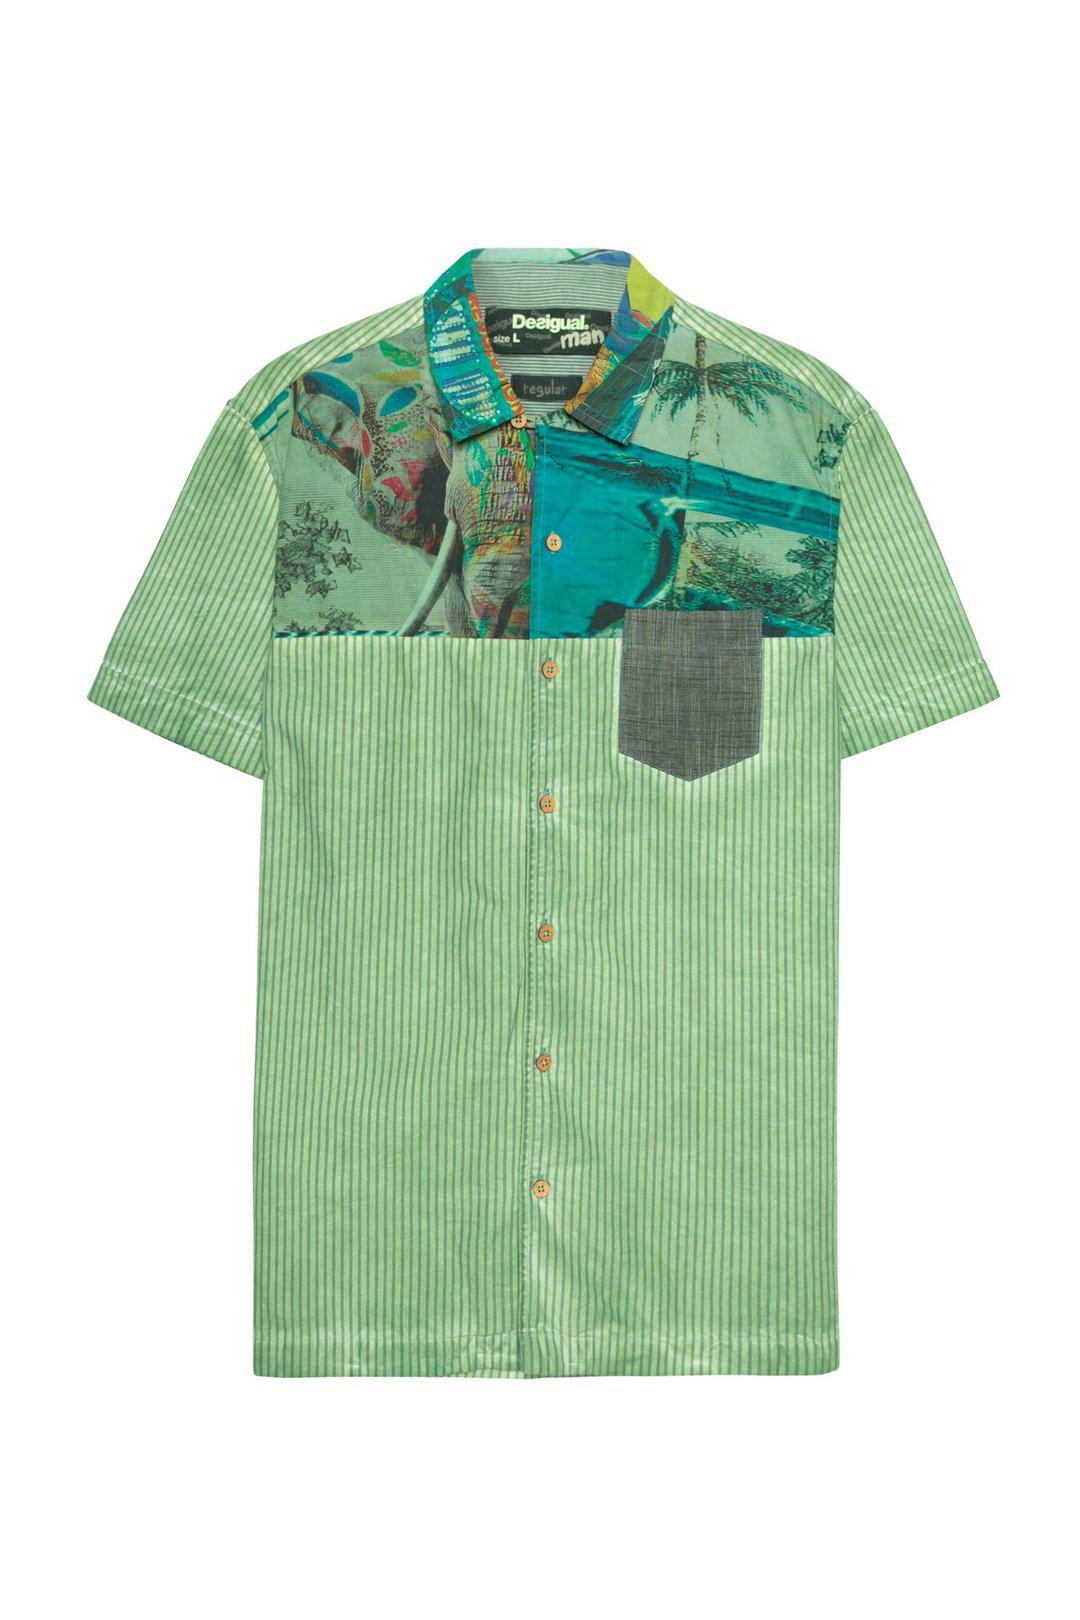teeshirt: (96, 250, 1003, 1446)
